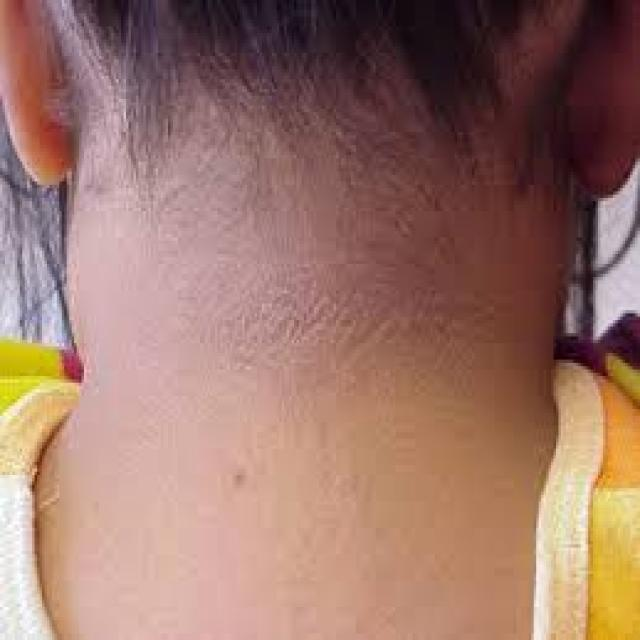Acanthosis Nigricans: (82, 192, 549, 462)
